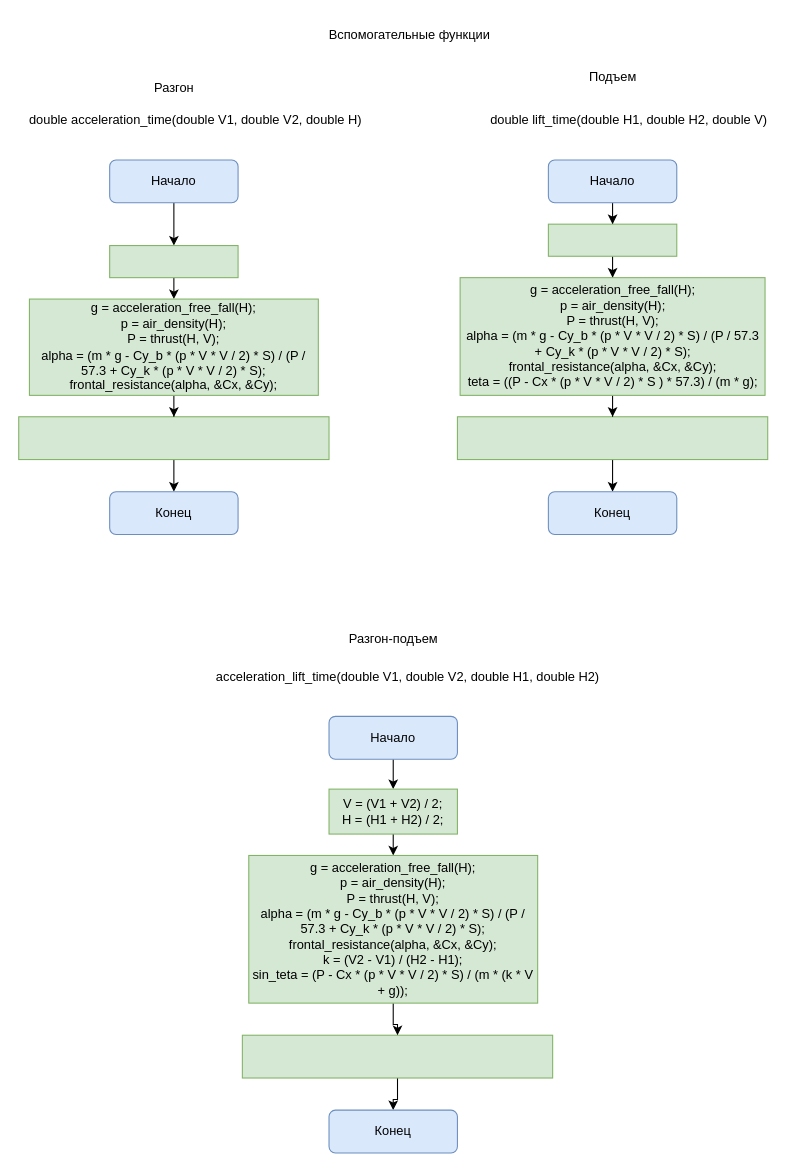
Some shapes in this 797 by 1172 pixel diagram are drawn without their labels. Each missing label, with the centre of its shape:
"H = (H1 + H2) / 2;" goes at pixel 612 239.
"return (1 / (k * sin_teta)) * log(V2 / V1);" goes at pixel 397 1056.
"return (57.3 * (H2 - H1)) / (V * teta);" goes at pixel 612 438.
"return (m * (V2 - V1)) / (P - Cx * (p * V * V / 2) * S);" goes at pixel 173 438.
"V = (V1 + V2) / 2;" goes at pixel 173 261.
